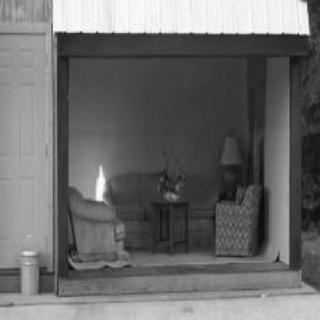Fire: (90, 163, 114, 205)
